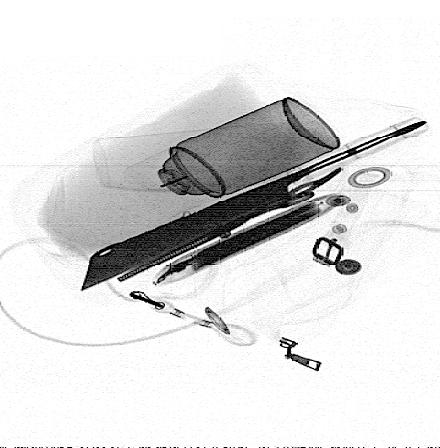Knife: (78, 116, 430, 289)
Powerbank: (149, 193, 344, 291)
Scissors: (115, 165, 346, 286)
Sprayer: (122, 97, 339, 222)
